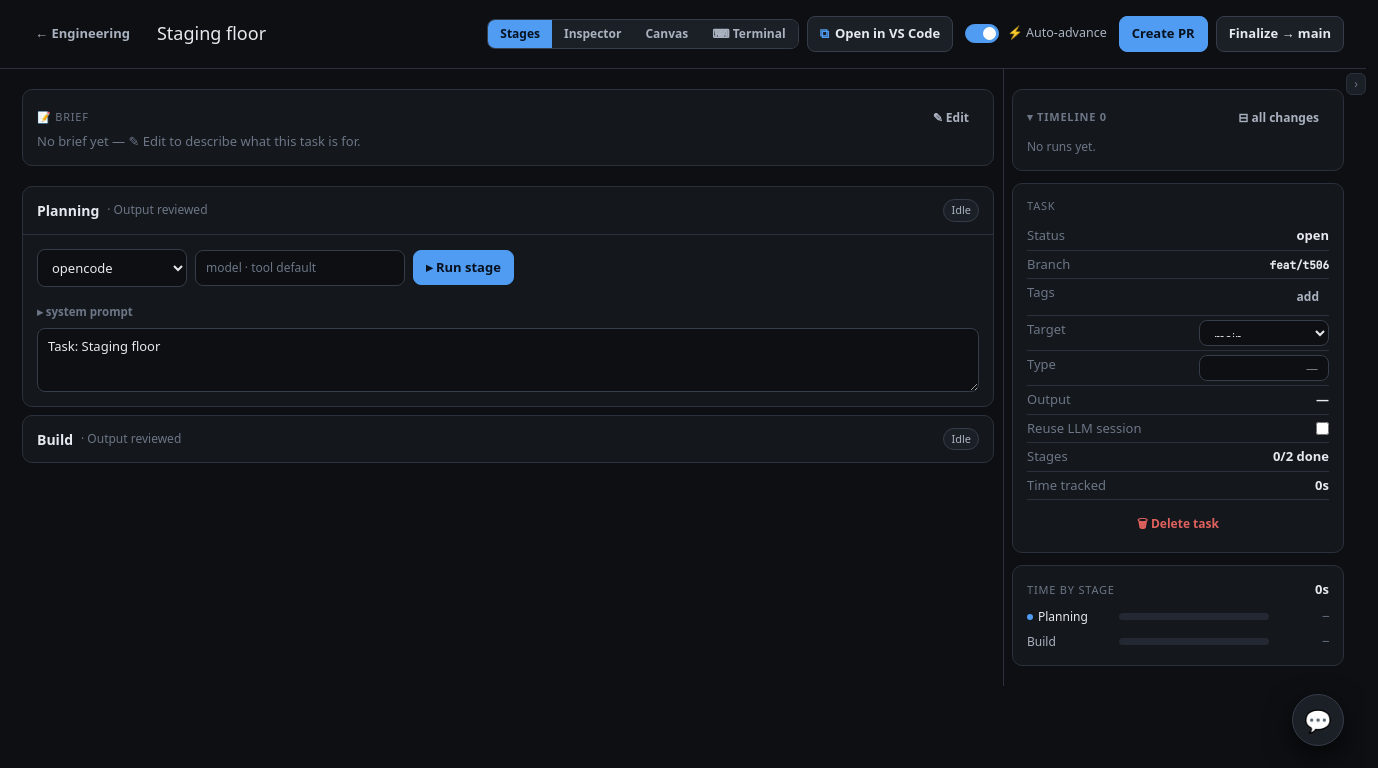
auto-advance chains FORWARD from a stage you started — the chain is handed to the server with the run › a failed stage shows why, and starts nothing more here (the server decides the chain)
Click the button "▸ Run stage" at (463, 268), box [413,250,514,285]
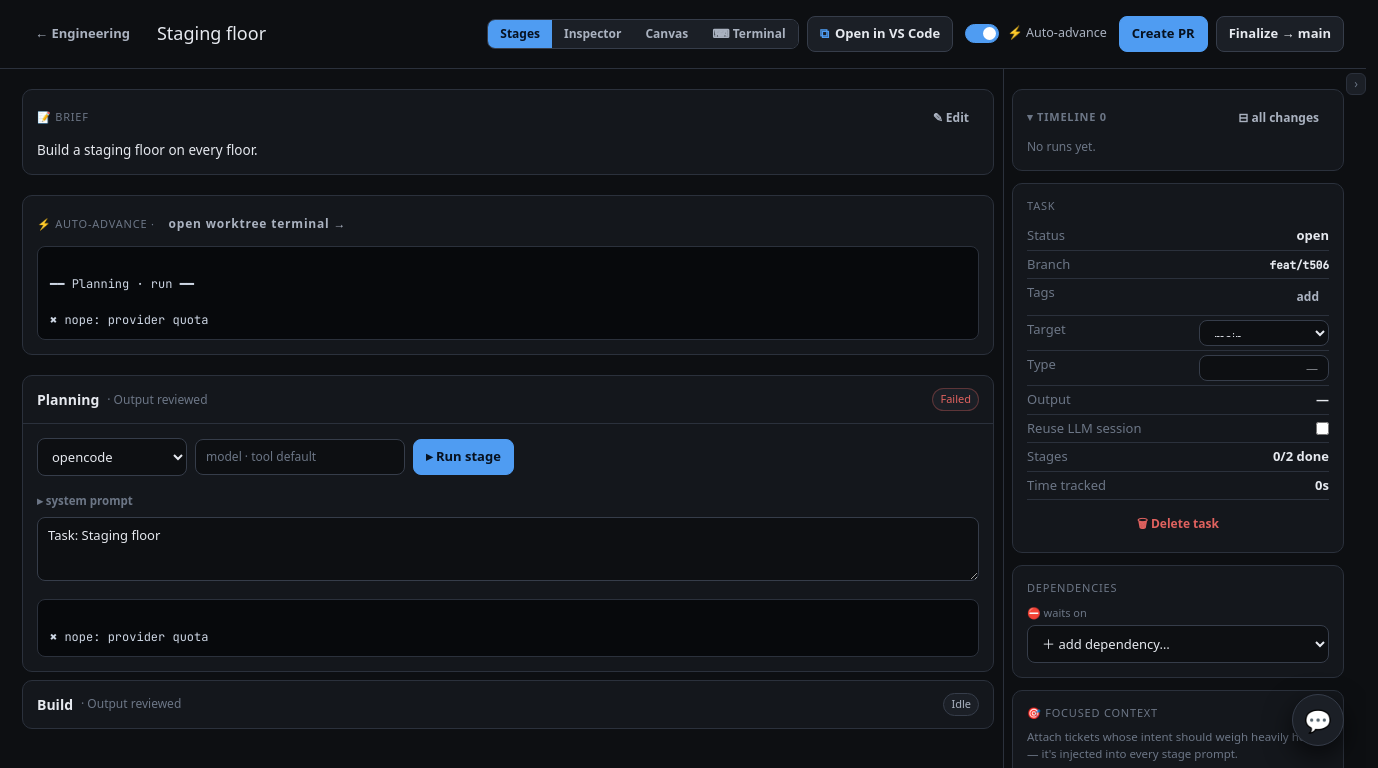
Now the text with class "term" reads "✖ nope: provider quota", box [50,629,208,645]
